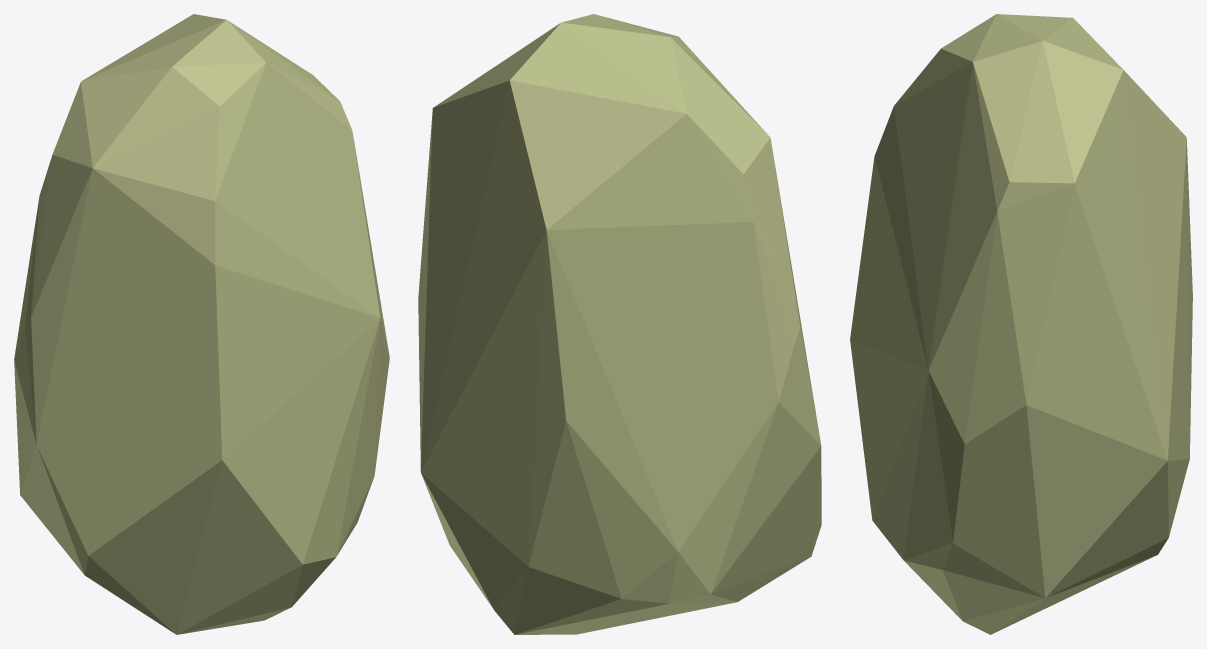
The model's file is food_produce_potato_m01.glb.
The picture shows the model from 3 angles, left to right: view 1: azimuth 30°, elevation 25°; view 2: azimuth 150°, elevation 25°; view 3: azimuth 270°, elevation 25°; orthographic projection. The views are drawn at different scales.
Parts seen in each view (by area): view 1: geometry_0; view 2: geometry_0; view 3: geometry_0.
Part boxes in pixels (x1,y1,x2,y2): geometry_0: [14, 14, 389, 634]; geometry_0: [418, 14, 821, 634]; geometry_0: [850, 14, 1192, 634].
Bounding box in the file's own units: 0.2939 × 0.4635 × 0.2448.
